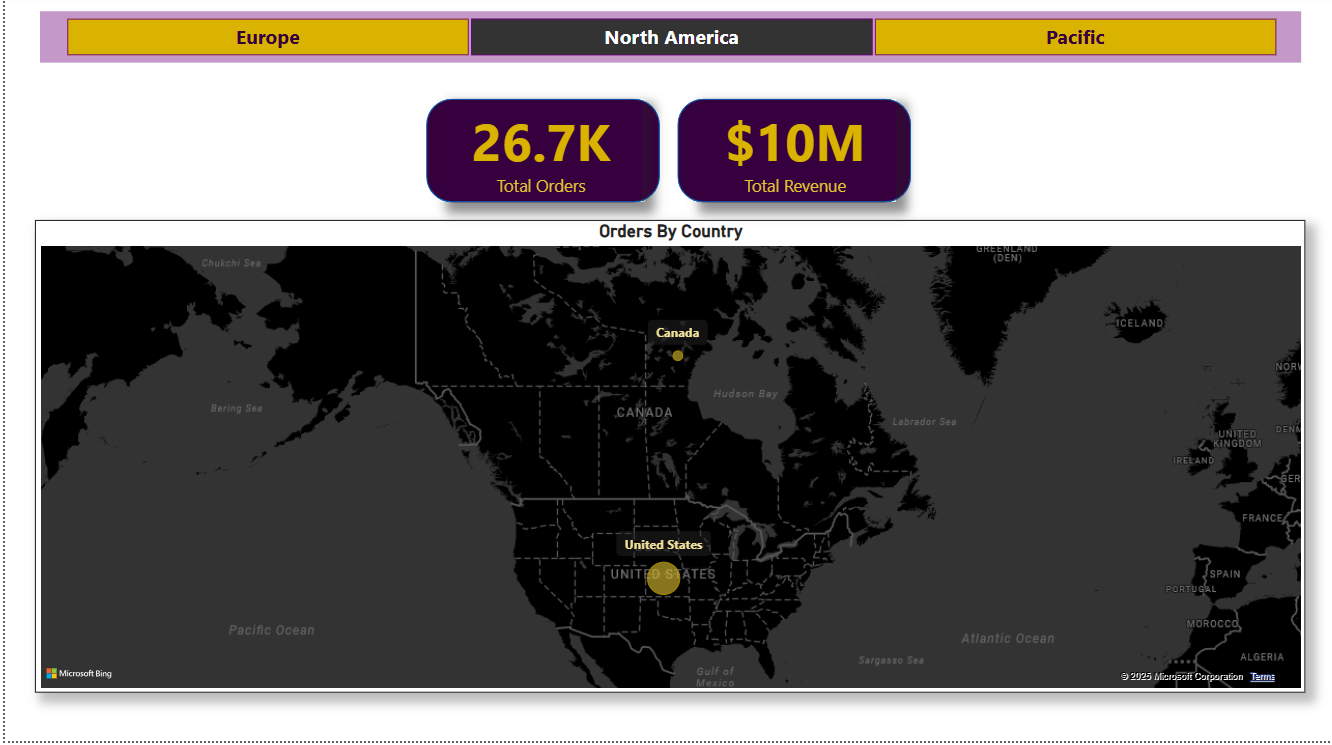

This screenshot's page, from the dashboard's own definition file:
{"tool":"powerbi","page":{"name":"Map","canvas":[1280,720],"ordinal":1},"visuals":[{"type":"shape","box":[406.9,100.2,225.5,100.1],"z":0,"group":"g1"},{"type":"map","title":"Orders By Country","fields":{"Category":["Territory Lookup.Country"],"Size":["Table Measure.Total Orders"]},"box":[28.4,217.7,1225.6,456.3],"z":0},{"type":"shape","title":"Shape","box":[649.1,100.2,225.5,100.1],"z":1000,"group":"g1"},{"type":"slicer","fields":{"Values":["Territory Lookup.Continent"]},"box":[33.4,16.1,1216.9,49.5],"z":1000},{"type":"card","fields":{"Values":["Table Measure.Total Customers"]},"box":[423,100.2,194.2,100.2],"z":2000},{"type":"card","fields":{"Values":["Table Measure.Average Revenue per customer"]},"box":[665.4,100.2,194.2,100.2],"z":3000},{"type":"group","id":"g1","title":"KPI cards","box":[406.9,100.2,467.5,100.2],"z":4000},{"type":"card","fields":{"Values":["Table Measure.Total Orders"]},"box":[420.8,100.3,193.4,100.2],"z":5000},{"type":"card","fields":{"Values":["Table Measure.Total Revenue"]},"box":[665.4,100.2,194.2,100.2],"z":6000}]}

Visuals, with their boxes in screenshot pixels (x1, y1, x2, y2), scaled from the page's 1280x720 canvas onto the 1332x745 screenshot:
shape: (x1=423, y1=104, x2=658, y2=207)
"Orders By Country" map: (x1=30, y1=225, x2=1305, y2=697)
"Shape" shape: (x1=675, y1=104, x2=910, y2=207)
slicer - Territory Lookup.Continent: (x1=35, y1=17, x2=1301, y2=68)
card - Table Measure.Total Customers: (x1=440, y1=104, x2=642, y2=207)
card - Table Measure.Average Revenue per customer: (x1=692, y1=104, x2=895, y2=207)
"KPI cards" group: (x1=423, y1=104, x2=910, y2=207)
card - Table Measure.Total Orders: (x1=438, y1=104, x2=639, y2=207)
card - Table Measure.Total Revenue: (x1=692, y1=104, x2=895, y2=207)
